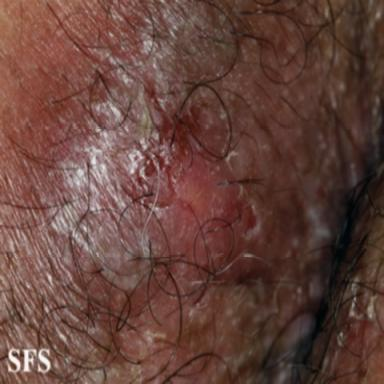Hailey-Hailey-Disease: (41, 5, 290, 302)
